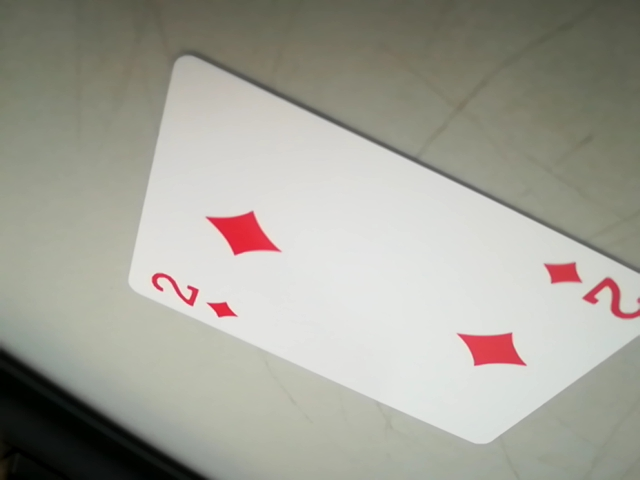fk 2: (533, 257, 639, 330), (140, 266, 244, 324)
